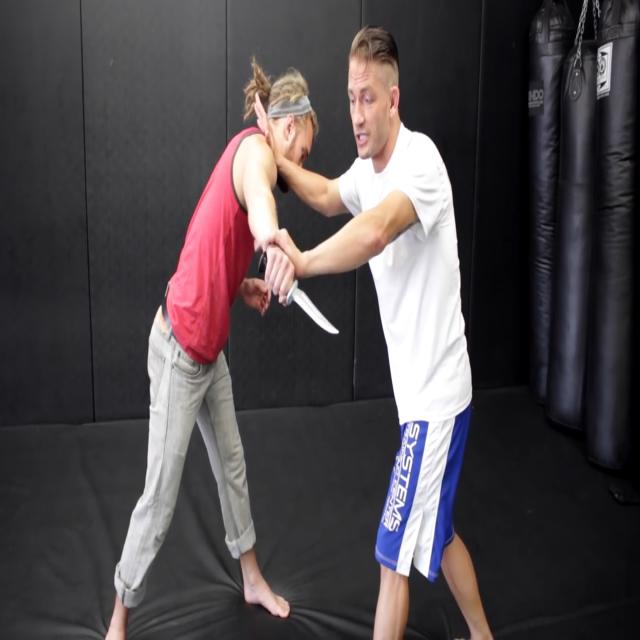knife: (289, 278, 345, 344)
